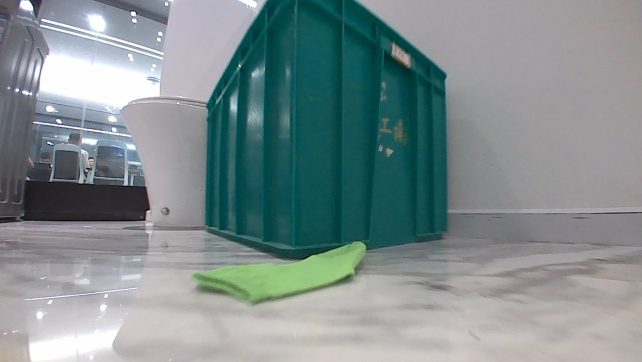socks: (190, 238, 369, 305)
toilet: (116, 94, 210, 229)
